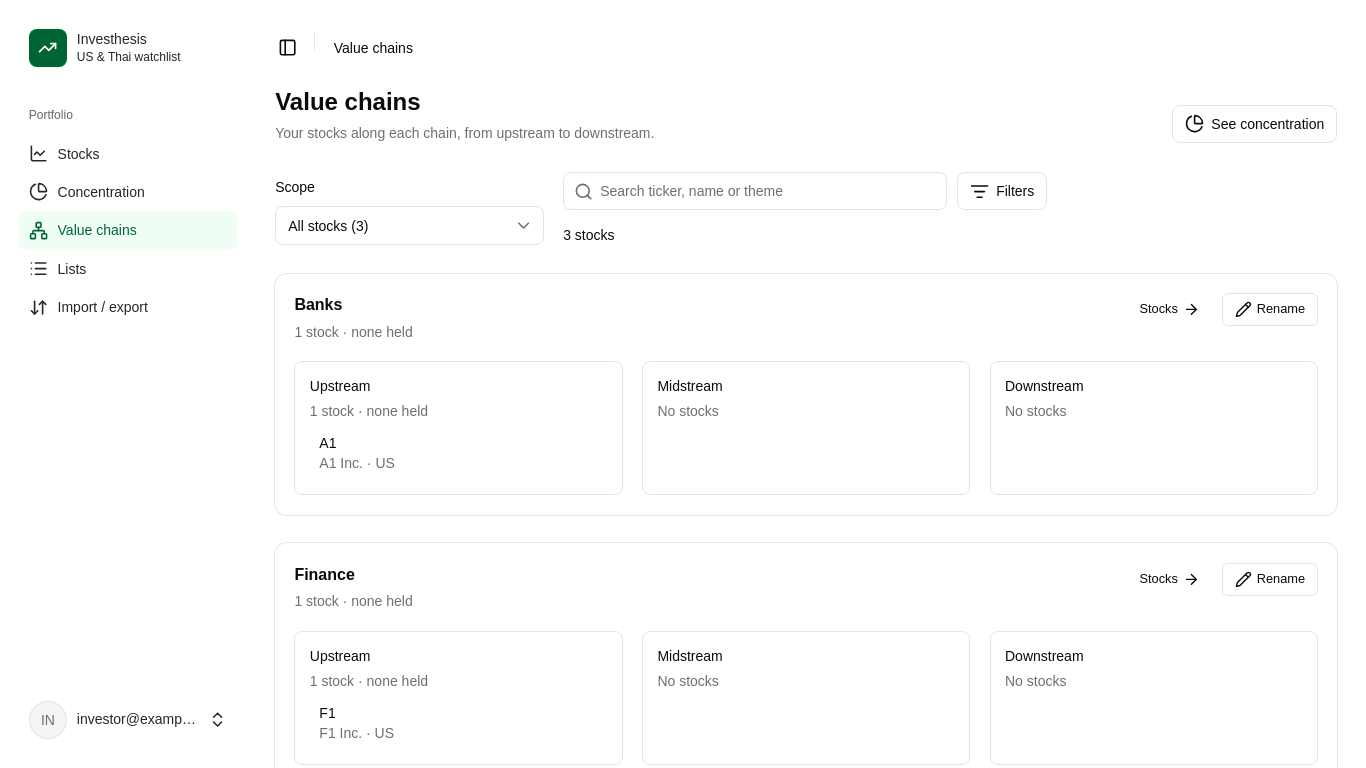
Scenario: focus after a rename › TC-C-939 (a) a plain rename puts focus on the Rename button of the renamed, re-sorted chain
Expected: the heading "Value chains" is shown, [275, 88, 421, 115]
Click the button "Rename" in the row of "Banks".
click(1270, 310)  # box [1222, 293, 1318, 326]
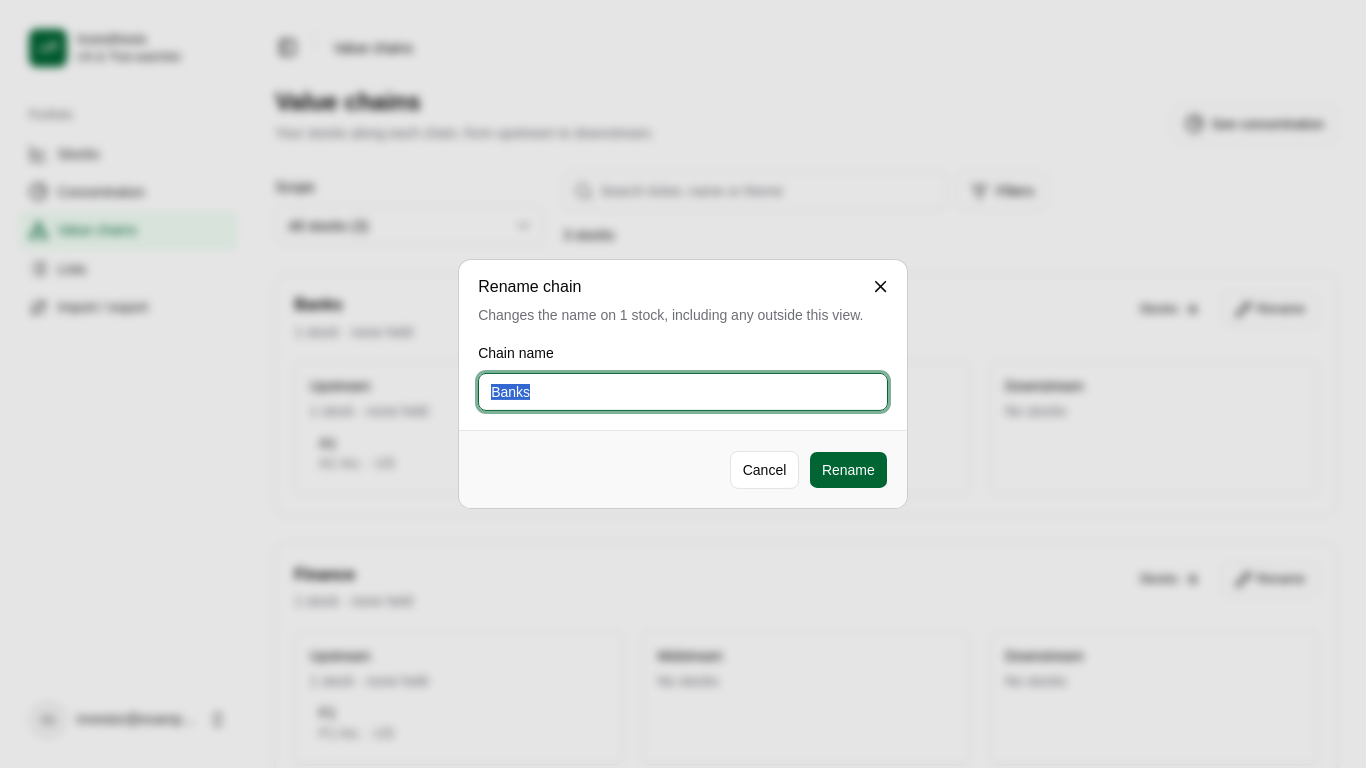
Replace the text in the field labelled "Chain name" with "Zeta & Co" at {"x": 683, "y": 392}, box [478, 373, 888, 411]
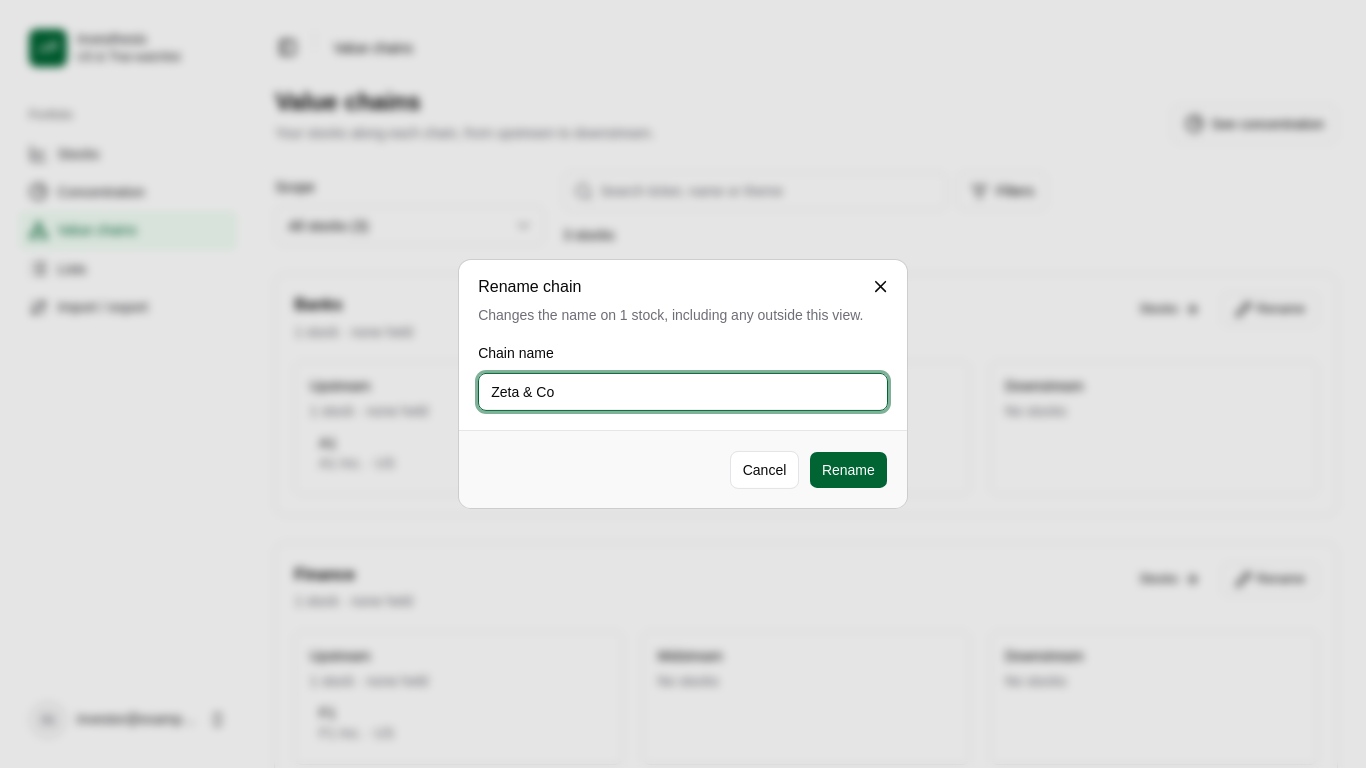
Click the button "Rename".
click(848, 470)  # box [809, 450, 888, 489]
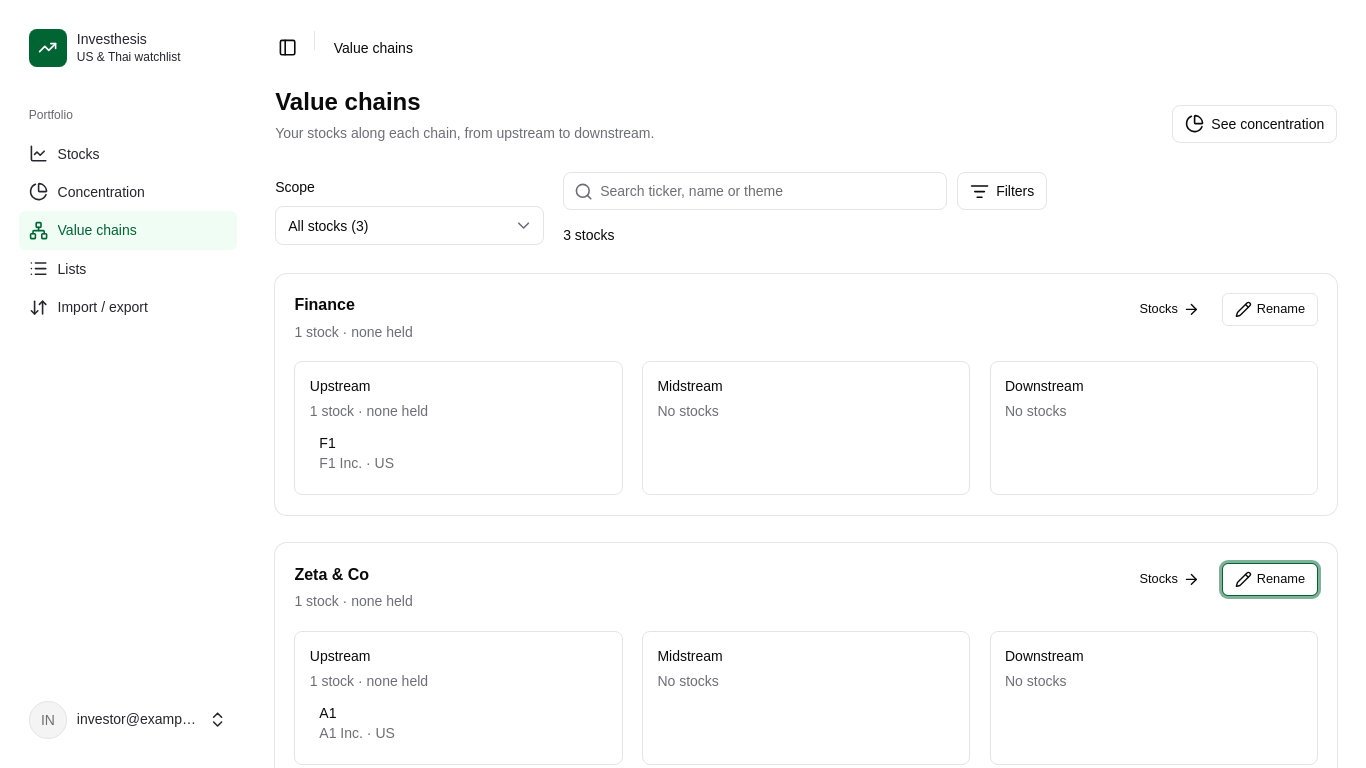
Expected: the dialog is gone
